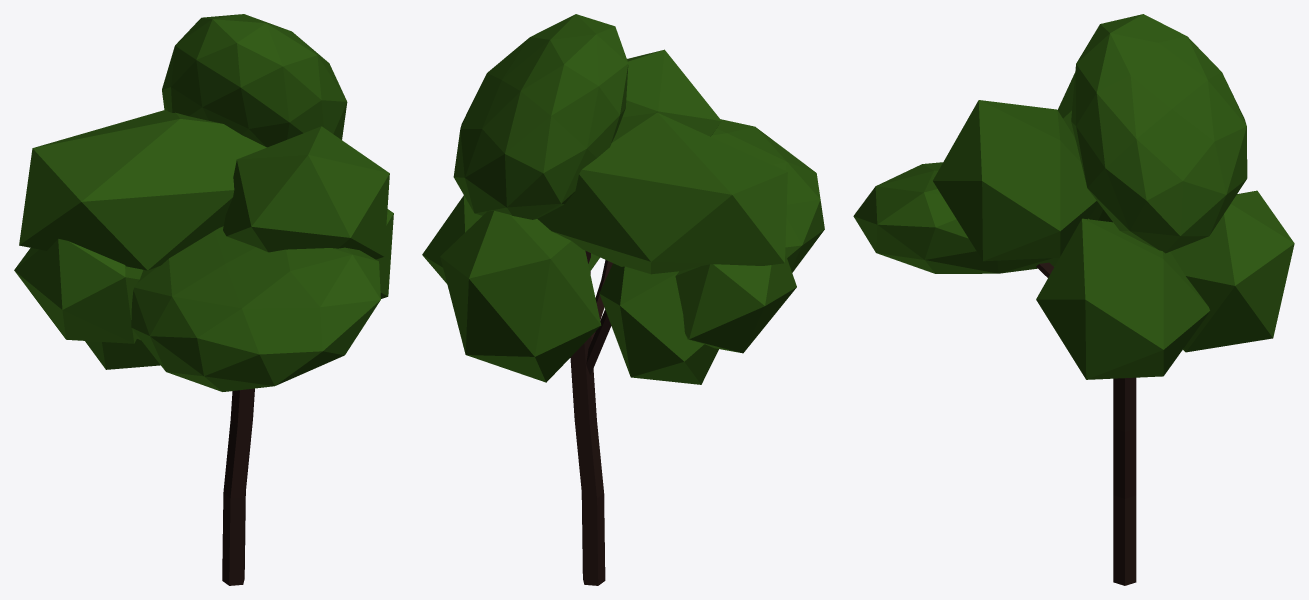
Rendered from SM_tree_a_01.FBX.
3 views of the same model, side by side, from view 1: azimuth 30°, elevation 25°; view 2: azimuth 150°, elevation 25°; view 3: azimuth 270°, elevation 25° (orthographic).
Visible parts, largest first — view 1: Object024; view 2: Object024; view 3: Object024.
Part boxes in pixels (x1=…): Object024: x1=14, y1=14, x2=393, y2=585; Object024: x1=422, y1=14, x2=824, y2=585; Object024: x1=853, y1=14, x2=1294, y2=585.
Size of the model in its own units: 388 by 582 by 415.
